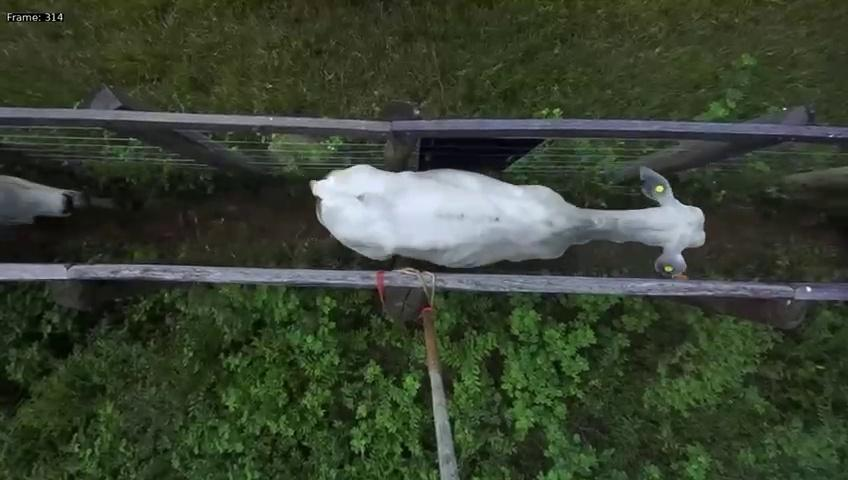cattle: (305, 154, 707, 278)
